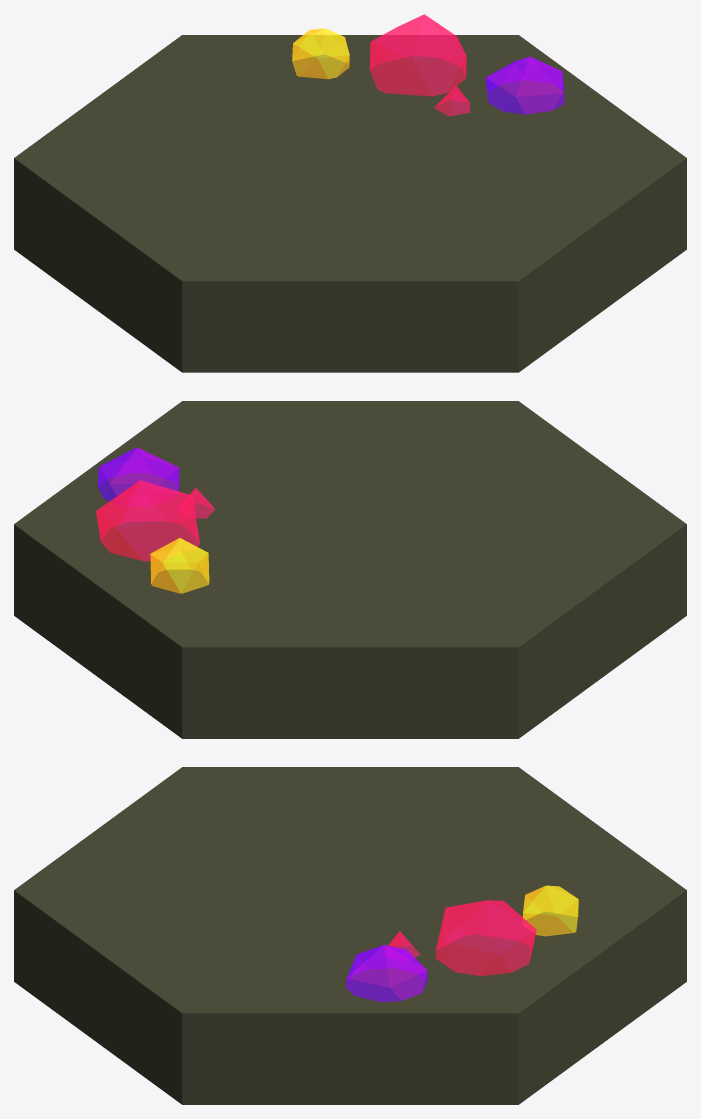
The model's file is GroundUnit(5).fbx.
3 views of the same model, one above another, from view 1: azimuth 30°, elevation 25°; view 2: azimuth 150°, elevation 25°; view 3: azimuth 270°, elevation 25° (orthographic).
Parts seen in each view (by area): view 1: GroundUnit2; view 2: GroundUnit2; view 3: GroundUnit2.
Part boxes in pixels (left/top/right/bottom): GroundUnit2: left=14, top=14, right=686, bottom=372; GroundUnit2: left=14, top=401, right=686, bottom=738; GroundUnit2: left=14, top=767, right=686, bottom=1104.
Size of the model in its own units: 173 by 49.43 by 200.
